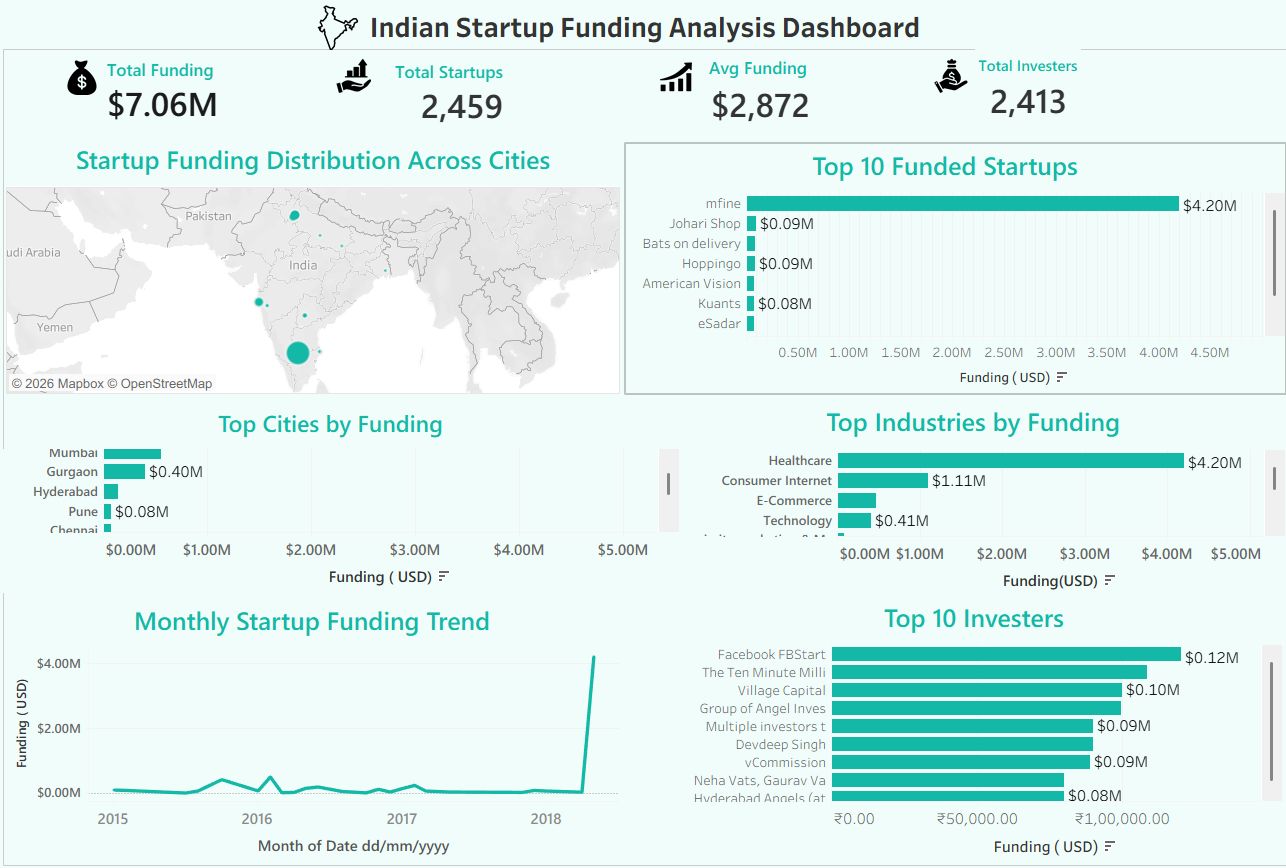

The page's visual inventory and layout, read from the dashboard file:
{"tool":"tableau","page":{"name":"Dashboard 1","canvas":[1000,1000],"units":"permille","ordinal":0},"visuals":[{"type":"title","box":[6.2,9.1,987.7,51.2]},{"type":"image","param":"C:/Users/ELCOT/Downloads/india.png","box":[246.2,10,34.6,51.2]},{"type":"worksheet","title":"Sheet 7","mark":"Automatic","box":[83.1,53.5,115.4,94.5]},{"type":"worksheet","title":"Sheet 8","mark":"Automatic","box":[301.5,55.8,112.3,113.9]},{"type":"text","box":[545.4,59.2,83.1,44.4]},{"type":"image","box":[6.2,60.4,987.7,930.5]},{"type":"text","box":[753.9,60.4,81.5,36.5]},{"type":"image","param":"C:/Users/ELCOT/Downloads/investment.png","box":[262.3,69.5,26.9,42.1]},{"type":"image","param":"C:/Users/ELCOT/Downloads/fund.png","box":[721.5,70.6,26.9,39.9]},{"type":"image","param":"C:/Users/ELCOT/Downloads/growth.png","box":[510,71.8,26.9,39.9]},{"type":"image","param":"C:/Users/ELCOT/Downloads/money.png","box":[53.1,72.9,26.9,39.9]},{"type":"worksheet","title":"Sheet 10","mark":"Text","box":[750.8,93.4,78.5,53.5]},{"type":"worksheet","title":"Sheet 9","mark":"Text","box":[537.7,98,102.3,66.1]},{"type":"worksheet","title":"Startup Funding Distribution Across Cities ","mark":"Automatic","box":[8.5,161.7,472.3,291.6]},{"type":"worksheet","title":"Top 10 Funded Startups","mark":"Bar","rows":["Startup Name"],"cols":["Amount in USD"],"box":[485.4,168.6,506.9,283.6]},{"type":"worksheet","title":"Top Industries","mark":"Automatic","cols":["Amount in USD"],"box":[524.6,460.1,467.7,224.4]},{"type":"worksheet","title":"Top cities","mark":"Automatic","cols":["Amount in USD"],"box":[6.2,463.6,520,216.4]},{"type":"worksheet","title":"Top 10 Investers","mark":"Bar","rows":["Calculation_1474457577390082"],"cols":["Amount in USD"],"box":[532.3,683.4,457.7,305.2]},{"type":"worksheet","title":"Funding Trend","mark":"Automatic","rows":["Amount in USD"],"cols":["Date dd/mm/yyyy"],"box":[7.7,686.8,472.3,299.5]}]}

Visuals, with their boxes on the dashboard's canvas, which has no fixed pixel size, in thousandths of its width and height (x1, y1, x2, y2). These are canvas units, not pixel positions in the 1286x868 screenshot, which may show the page scaled, cropped or inside an application window:
title: Rect(6, 9, 994, 60)
image: Rect(246, 10, 281, 61)
"Sheet 7" worksheet: Rect(83, 54, 198, 148)
"Sheet 8" worksheet: Rect(302, 56, 414, 170)
text: Rect(545, 59, 628, 104)
image: Rect(6, 60, 994, 991)
text: Rect(754, 60, 835, 97)
image: Rect(262, 70, 289, 112)
image: Rect(722, 71, 748, 110)
image: Rect(510, 72, 537, 112)
image: Rect(53, 73, 80, 113)
"Sheet 10" worksheet (Text marks): Rect(751, 93, 829, 147)
"Sheet 9" worksheet (Text marks): Rect(538, 98, 640, 164)
"Startup Funding Distribution Across Cities " worksheet: Rect(8, 162, 481, 453)
"Top 10 Funded Startups" worksheet (Bar marks): Rect(485, 169, 992, 452)
"Top Industries" worksheet: Rect(525, 460, 992, 684)
"Top cities" worksheet: Rect(6, 464, 526, 680)
"Top 10 Investers" worksheet (Bar marks): Rect(532, 683, 990, 989)
"Funding Trend" worksheet: Rect(8, 687, 480, 986)
